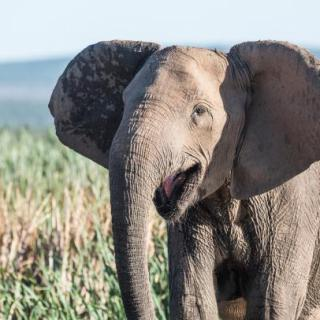Elephant: (41, 33, 320, 320)
